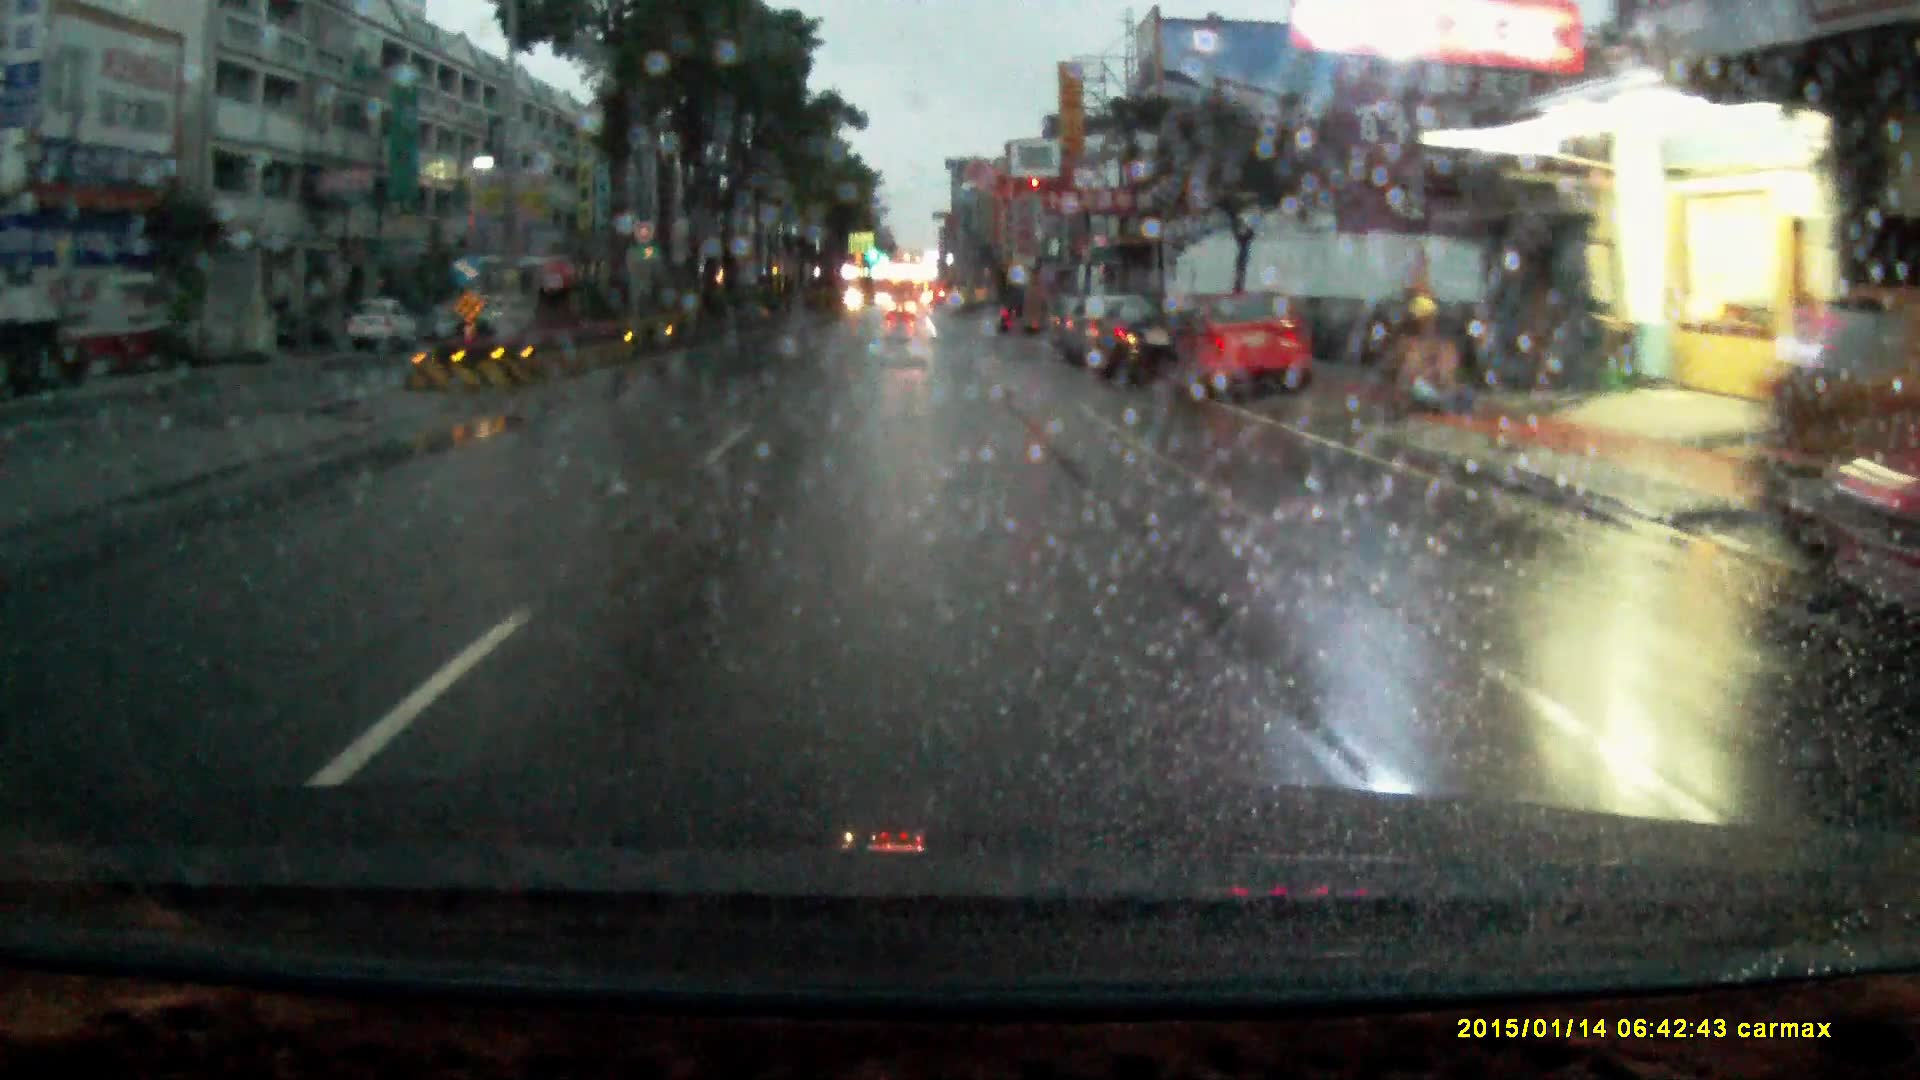vehicle: (1167, 299, 1311, 405), (1081, 301, 1184, 393), (1063, 297, 1139, 371), (342, 295, 419, 352), (452, 291, 542, 338), (1019, 291, 1054, 344), (885, 299, 918, 327)
